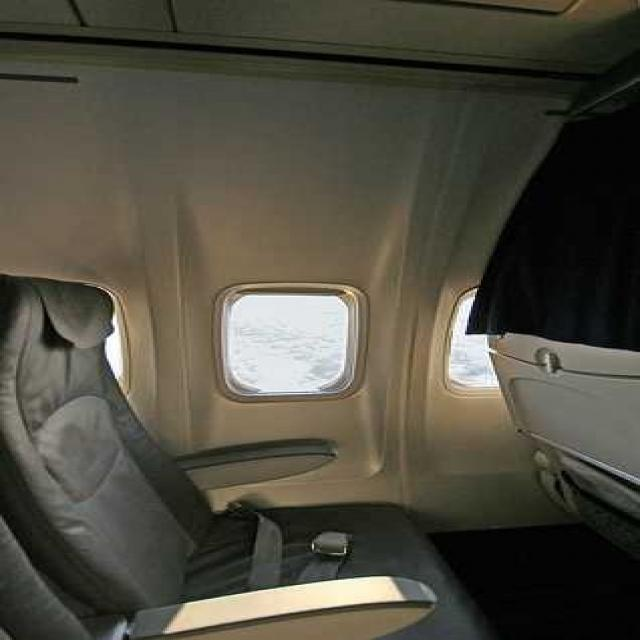seatbelt: (201, 468, 352, 576)
